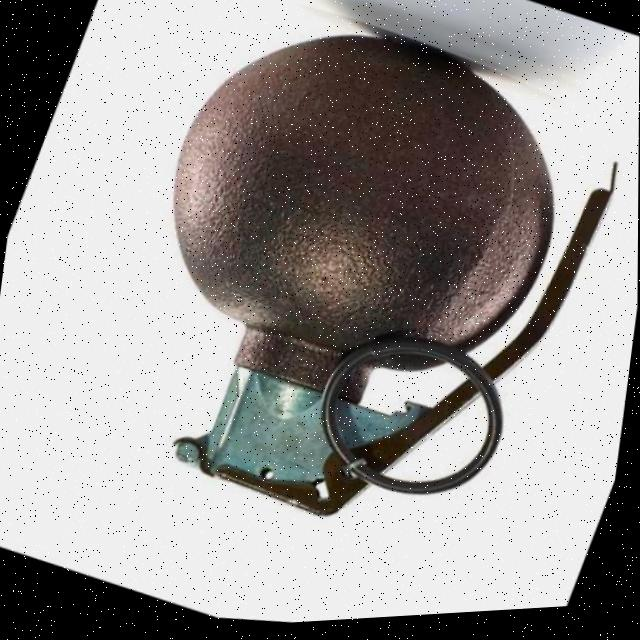grenade: (31, 0, 640, 617)
